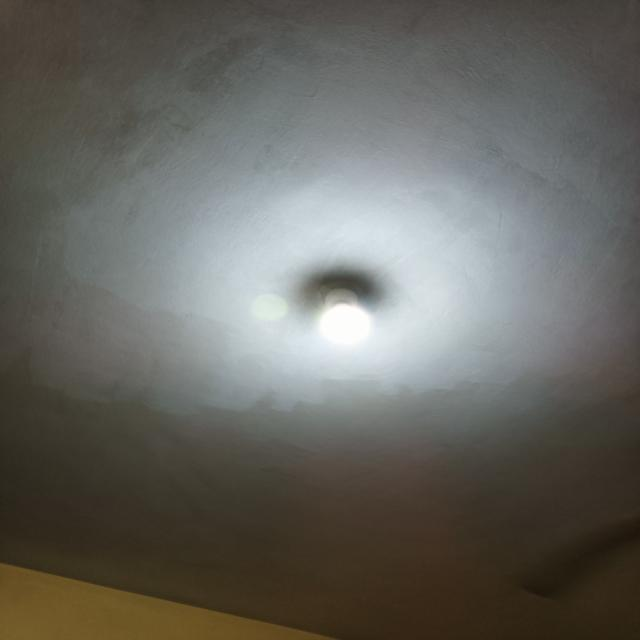bulb_on: (314, 286, 374, 354)
